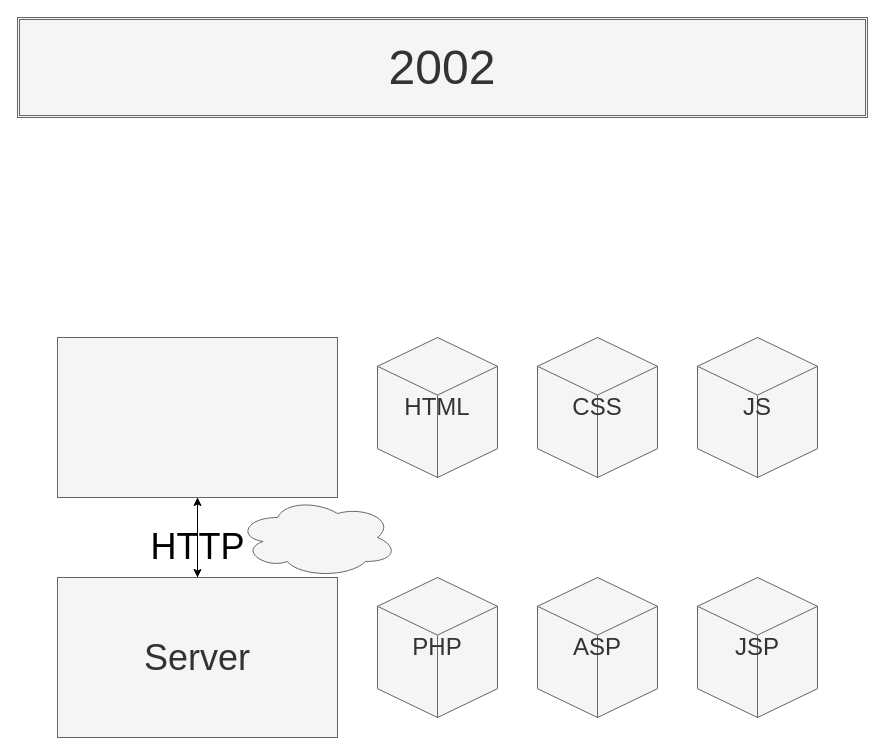
This 885x755 diagram has some shape labels left out. Each missing label, with the centre of its shape:
Browser: (197,417)
REST: (317,537)
